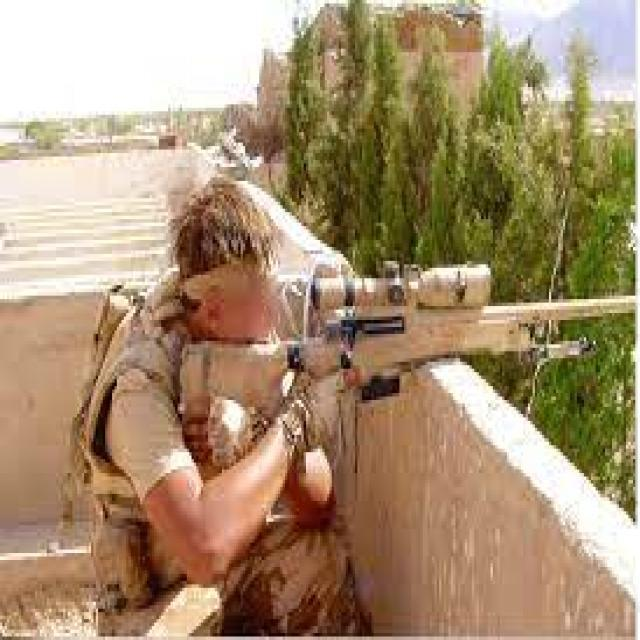rifle: (177, 250, 640, 448)
